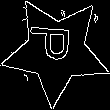P_E: (30, 30, 82, 71)
